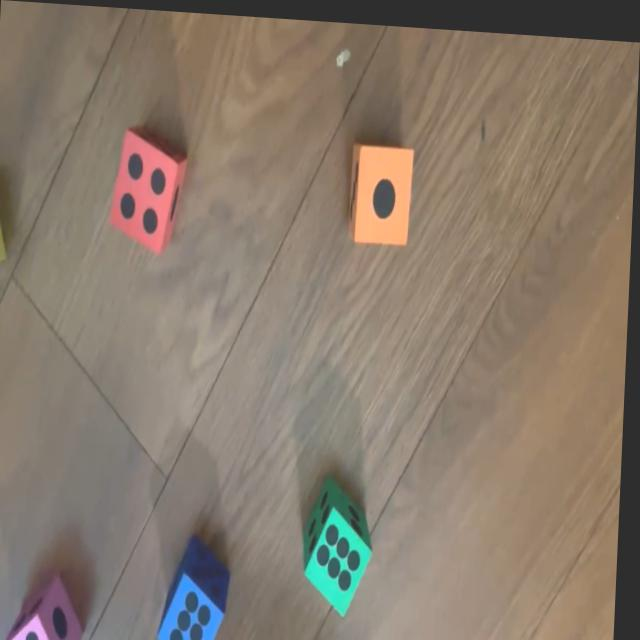cube: (303, 472, 378, 615), (111, 125, 188, 253), (161, 532, 235, 640)
